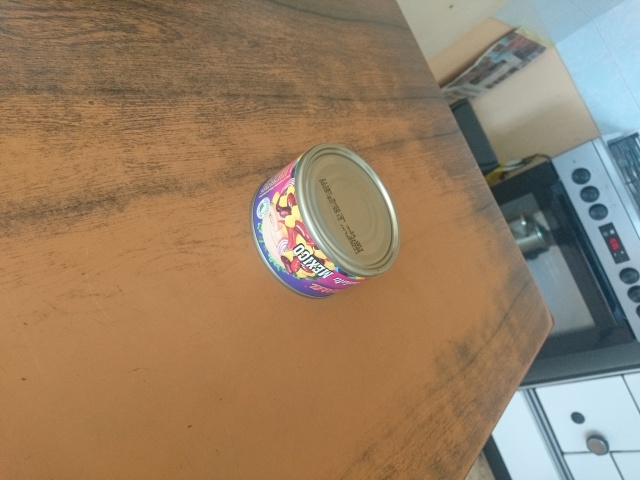Giana Tuna Salad Mexico 185g: (248, 141, 401, 301)
